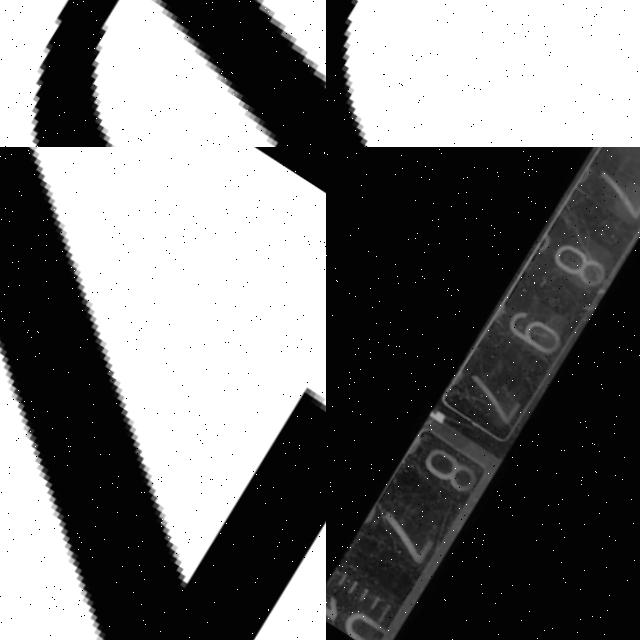7: (363, 502, 437, 566), (452, 366, 524, 428), (583, 161, 640, 222)
8: (412, 438, 483, 500), (544, 234, 610, 291)
9: (500, 302, 569, 361)
B: (23, 0, 326, 147)
O: (326, 0, 640, 147)
Z: (0, 147, 326, 640)
